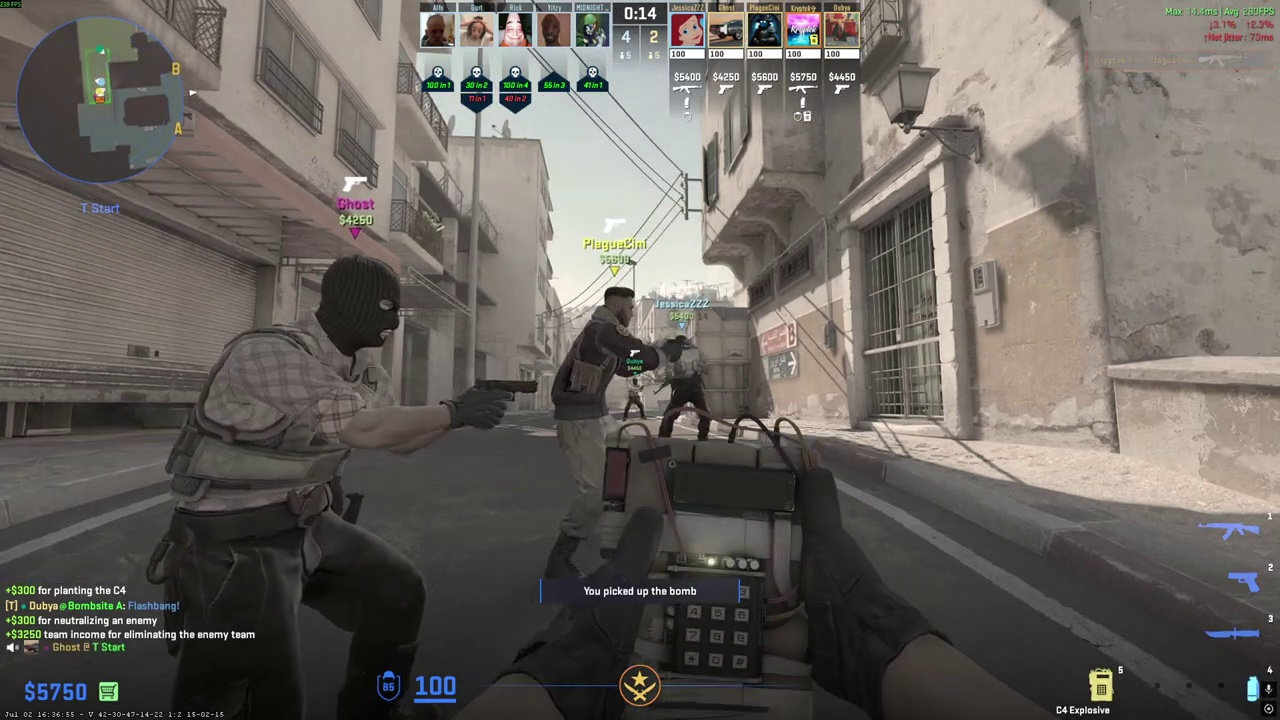Terrorist: (163, 254, 449, 720), (550, 287, 658, 580), (657, 335, 710, 441), (623, 378, 646, 420)
